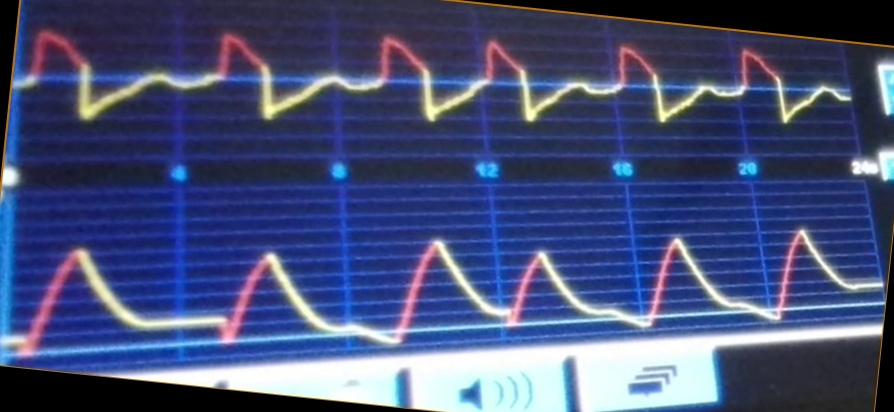Ineffective_effort Flow: (22, 26, 852, 146)
Ineffective_effort Volume: (17, 224, 874, 361)
